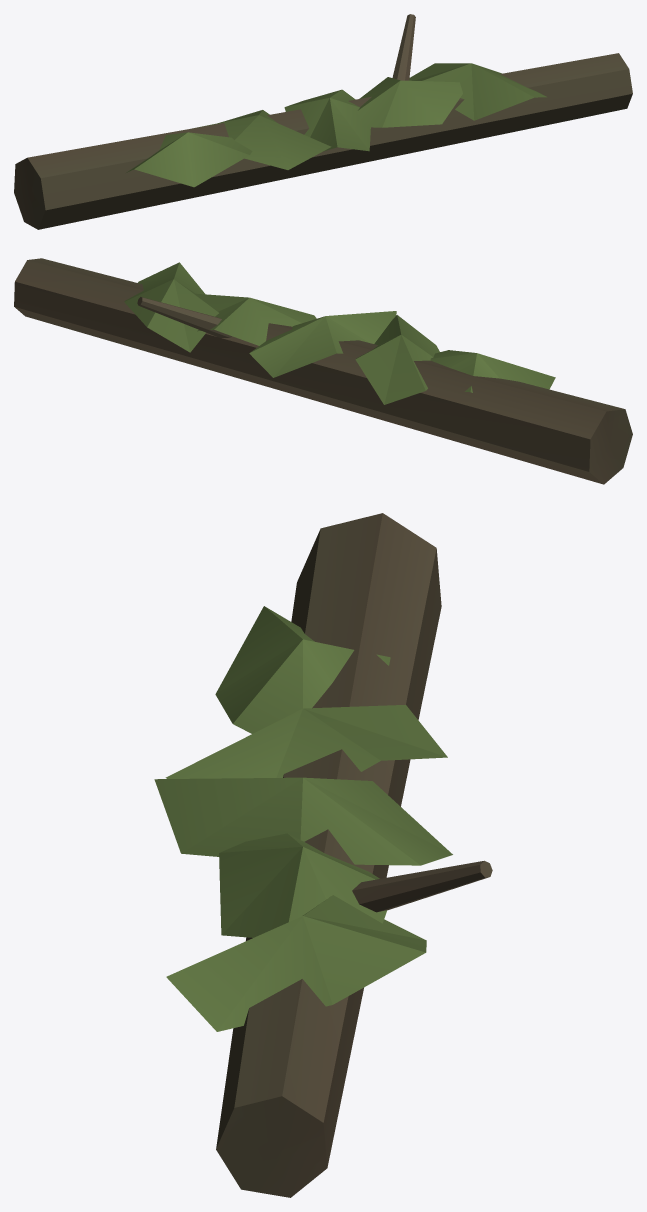
The model's file is taiga-log.glb.
3 views of the same model, one above another, from view 1: azimuth 30°, elevation 25°; view 2: azimuth 150°, elevation 25°; view 3: azimuth 270°, elevation 25° (orthographic). The views are drawn at different scales.
Visible parts, largest first — view 1: Поваленный гниющий ствол; view 2: Поваленный гниющий ствол; view 3: Поваленный гниющий ствол.
Boxes of the visible parts, x1,y1,x2,y2 form: Поваленный гниющий ствол: (14, 14, 632, 229); Поваленный гниющий ствол: (14, 258, 632, 484); Поваленный гниющий ствол: (154, 513, 492, 1197).
Bounding box in the file's own units: 8.06 × 1.24 × 2.07.
